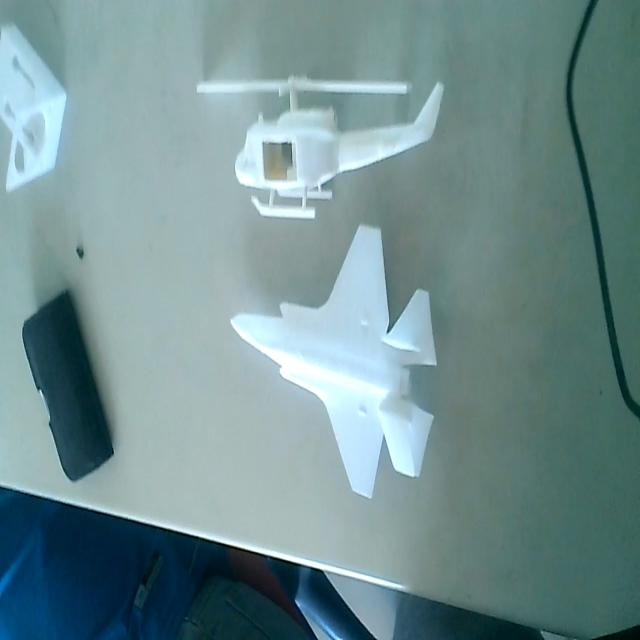Helicopter: (194, 67, 444, 228)
Jet: (229, 229, 447, 503)
